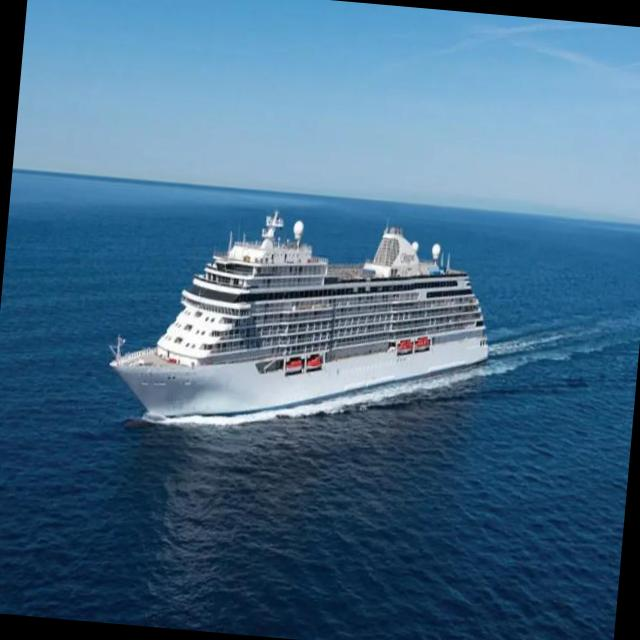Cruise: (109, 211, 488, 424)
